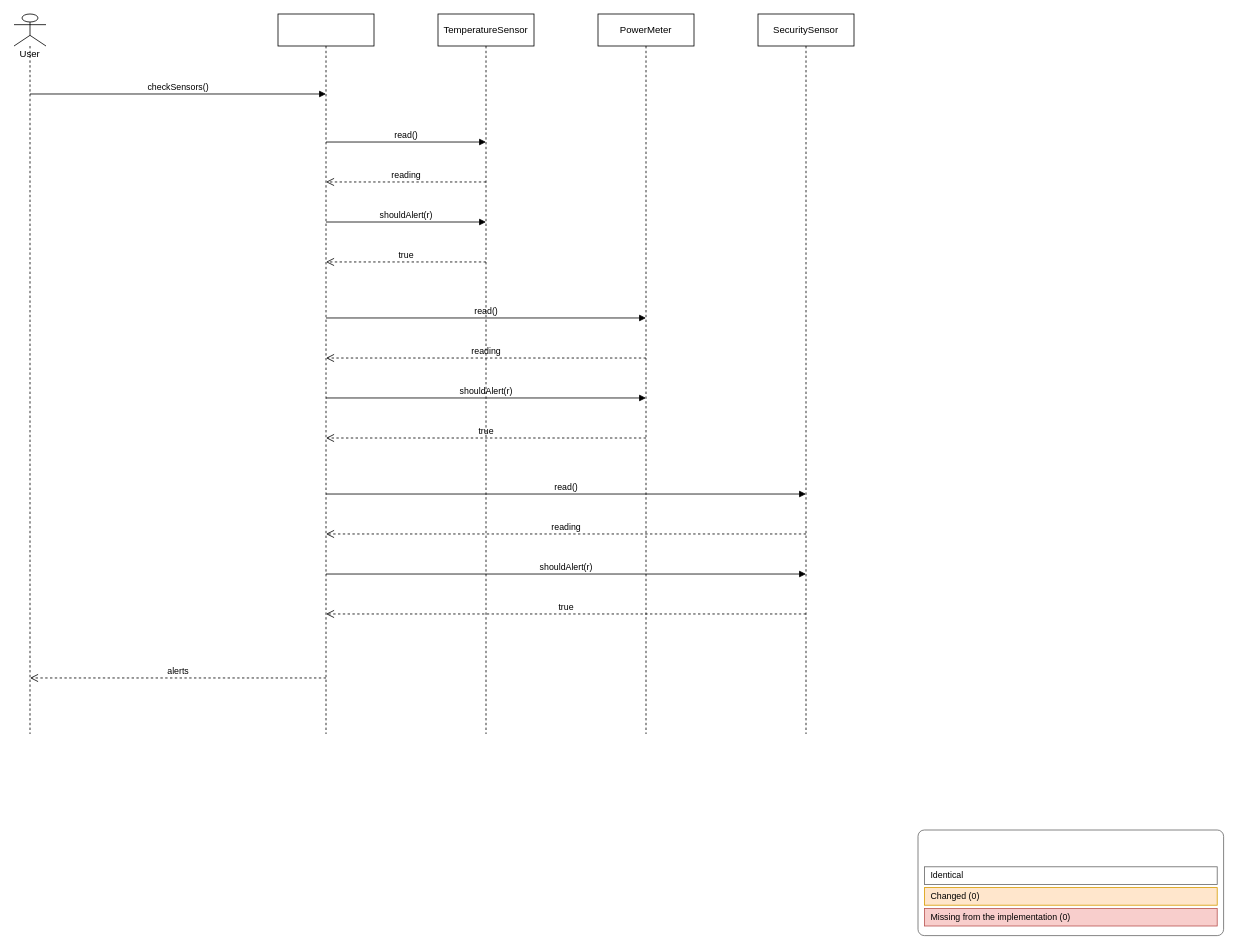
This 1238x950 diagram has some shape labels left out. The shapes that lost their labels are listed below. From the top down, each one's box as (x1, y1, x2, y2) in pixels, then its label:
(277, 13, 374, 734): Cabin
(917, 829, 1224, 936): DESIGN drawn by a person · diagrams/input/sequence-check_sensors.drawio
